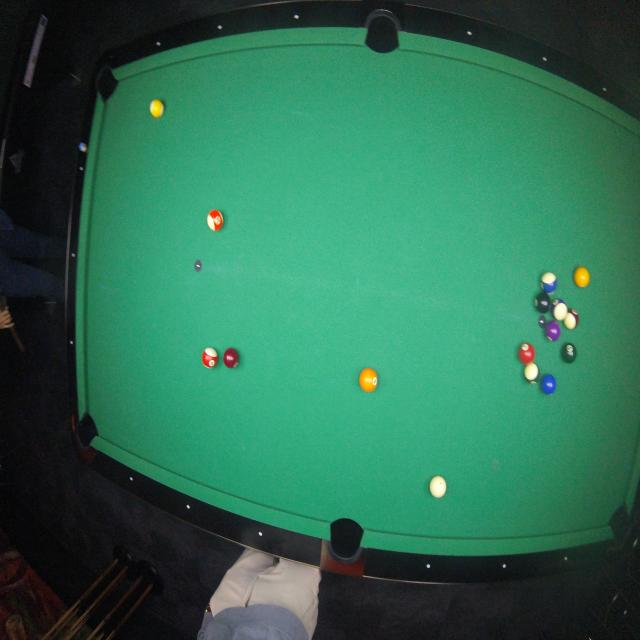cue ball: (427, 474, 451, 501)
other: (360, 365, 379, 395), (205, 208, 226, 233), (222, 347, 243, 371), (548, 297, 569, 321), (200, 347, 220, 372), (537, 374, 558, 397), (540, 272, 560, 296), (572, 265, 591, 290), (148, 96, 166, 122), (560, 340, 578, 365), (517, 342, 537, 364), (561, 308, 580, 331), (526, 360, 542, 386), (536, 292, 552, 315), (546, 320, 562, 343)
